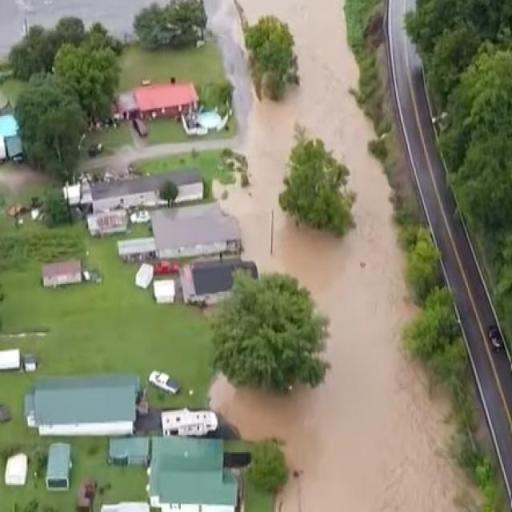flood: (205, 0, 478, 512)
house: (28, 362, 146, 441), (144, 440, 242, 509), (145, 201, 251, 255), (114, 75, 202, 135), (93, 168, 206, 204), (177, 259, 259, 303), (40, 258, 86, 287)
